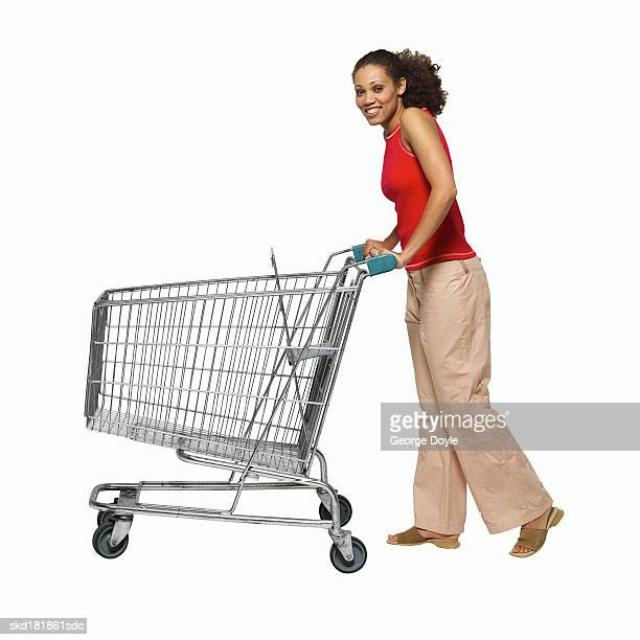Person: (352, 50, 564, 558)
